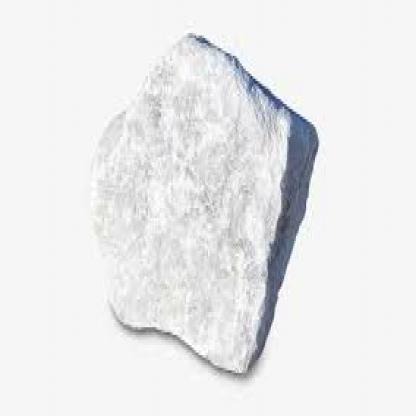Metamorphic_Marble: (85, 15, 328, 381)
